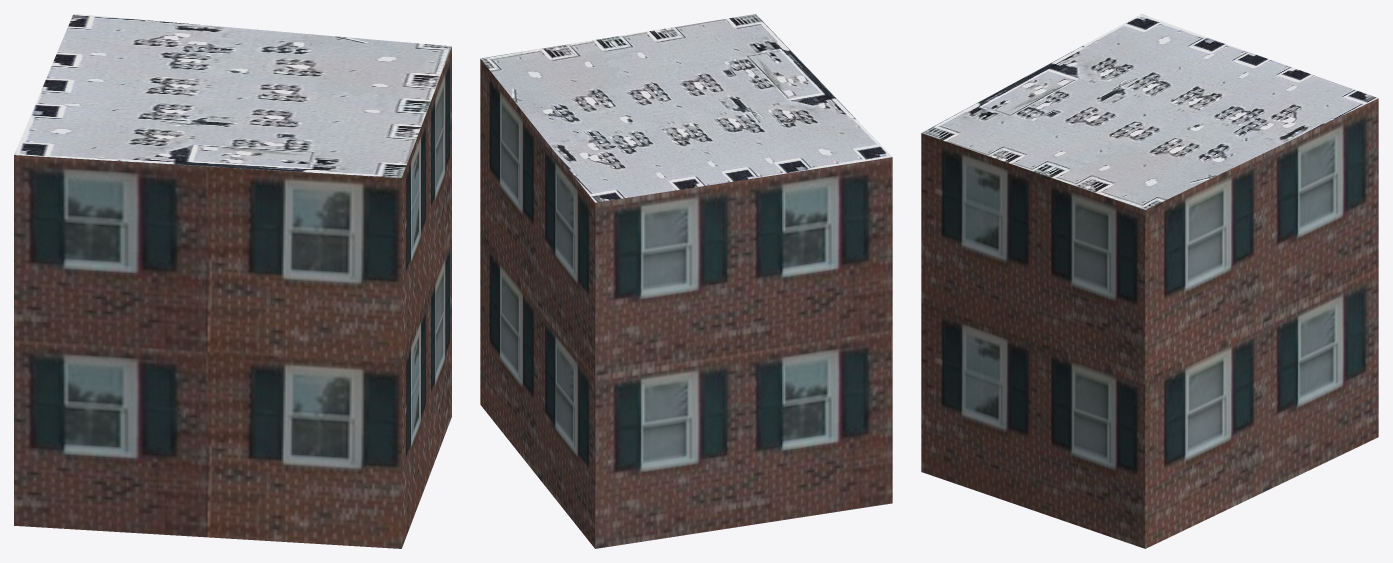
Rendered from ResTex__4005.fbx.
The picture shows the model from 3 angles, left to right: view 1: azimuth 30°, elevation 25°; view 2: azimuth 150°, elevation 25°; view 3: azimuth 270°, elevation 25°; orthographic projection. The views are drawn at different scales.
Parts seen in each view (by area): view 1: CityEngineMaterial_14_m, CityEngineMaterial_8_m; view 2: CityEngineMaterial_14_m, CityEngineMaterial_8_m; view 3: CityEngineMaterial_14_m, CityEngineMaterial_8_m.
Part boxes in pixels (x1=…): CityEngineMaterial_14_m: x1=14, y1=46, x2=451, y2=548; CityEngineMaterial_8_m: x1=14, y1=14, x2=451, y2=177; CityEngineMaterial_14_m: x1=480, y1=59, x2=892, y2=548; CityEngineMaterial_8_m: x1=480, y1=14, x2=892, y2=202; CityEngineMaterial_14_m: x1=921, y1=98, x2=1378, y2=548; CityEngineMaterial_8_m: x1=922, y1=14, x2=1378, y2=209.
Bounding box in the file's own units: 7.45 × 6 × 7.34.
Materials: 2 (2 with a texture image).
